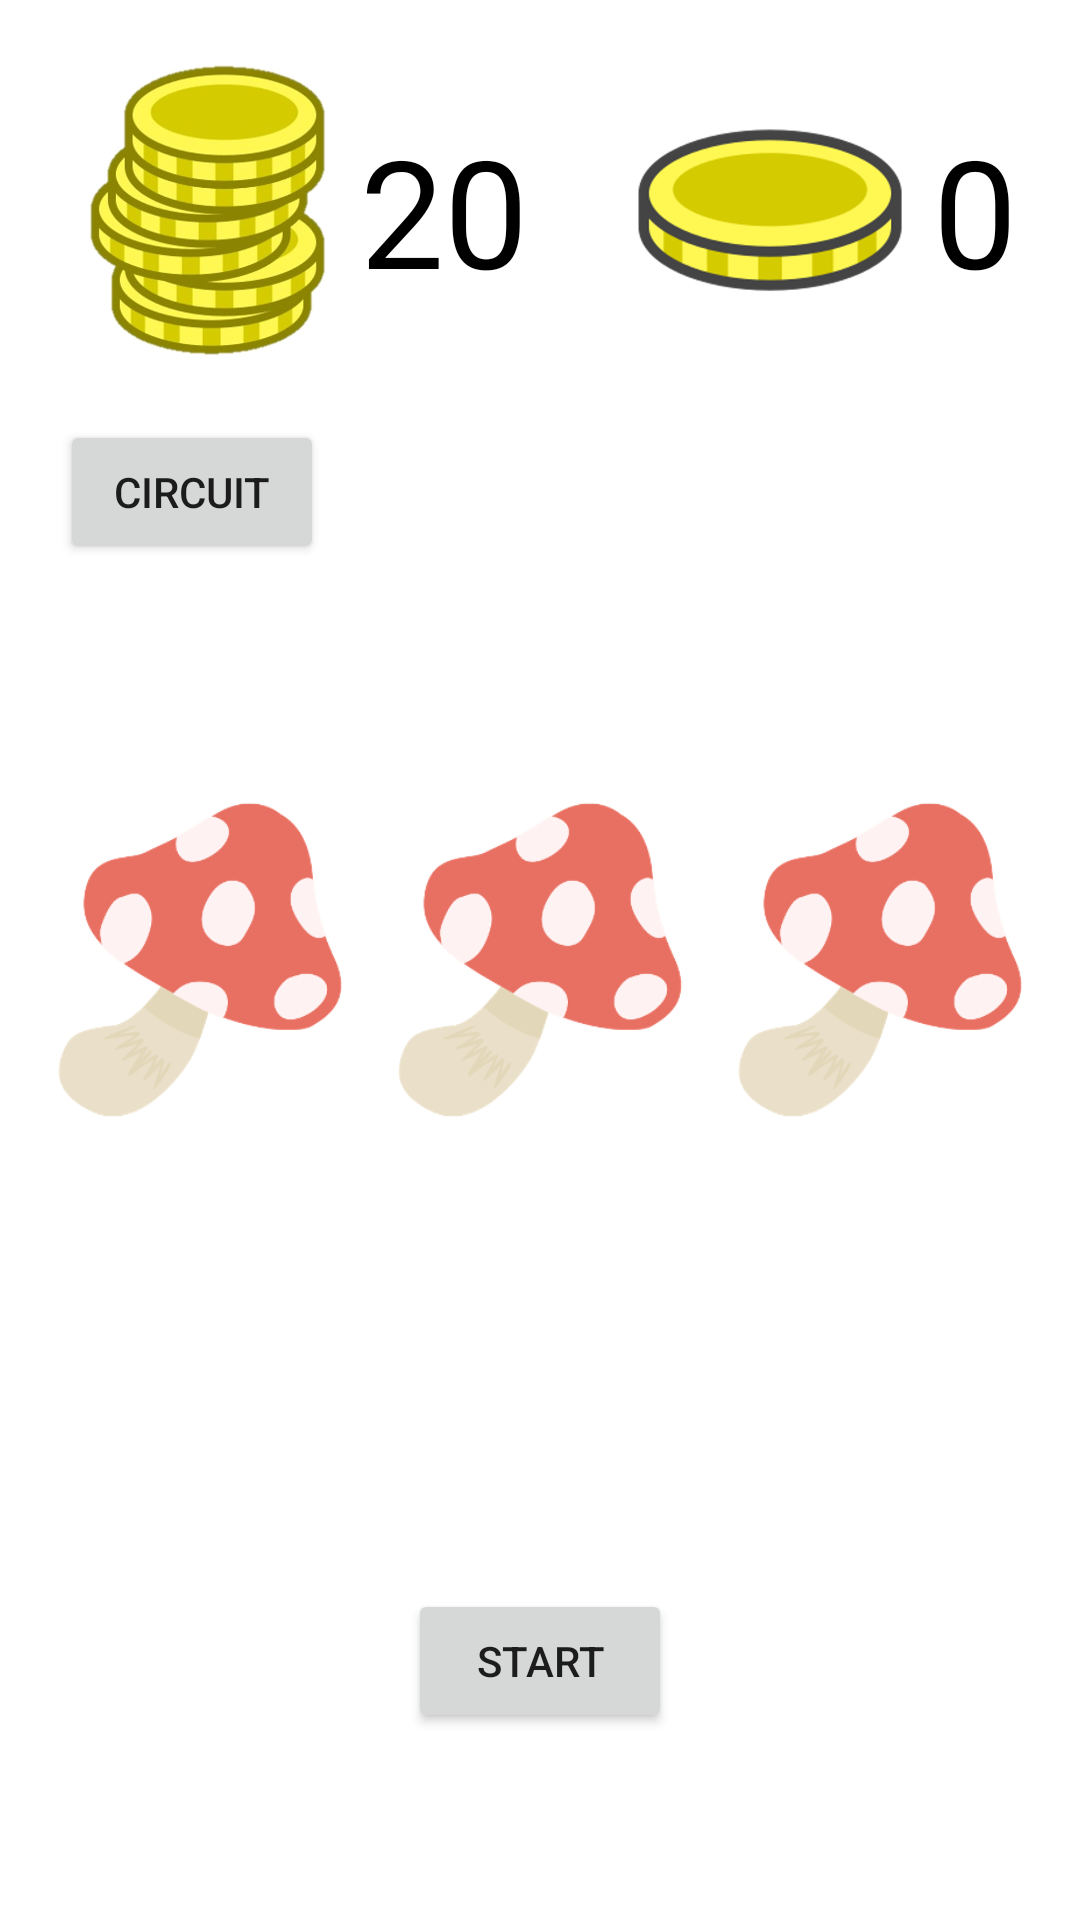

Screen size 1080w x 1920h. Icon name, then its center in pixels as [x,y]:
slot mushroom: [200,959], [540,959], [880,959]
slot use coin: [770,210]
